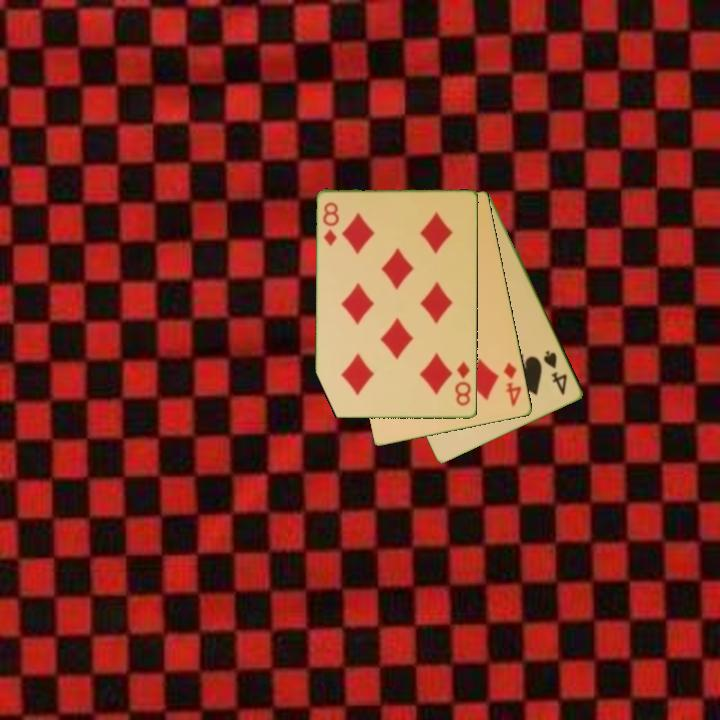4d: (500, 359, 525, 409)
4s: (540, 347, 570, 398)
8d: (319, 199, 342, 249), (452, 359, 474, 409)
